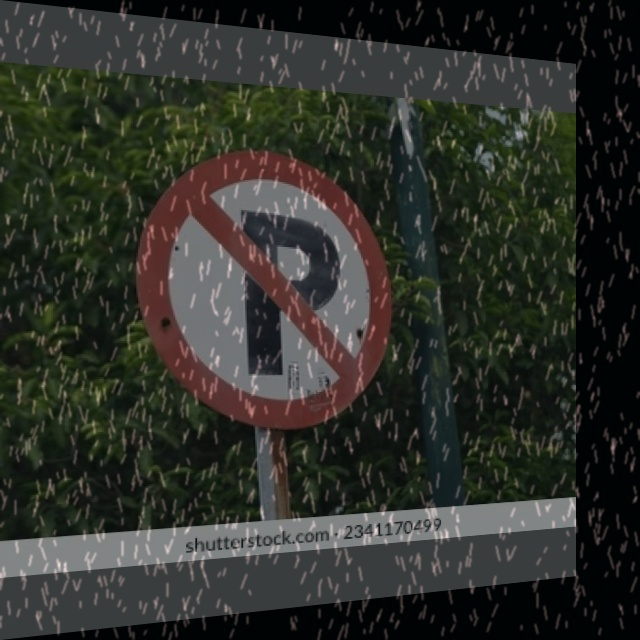No_Parking: (140, 139, 389, 432)
